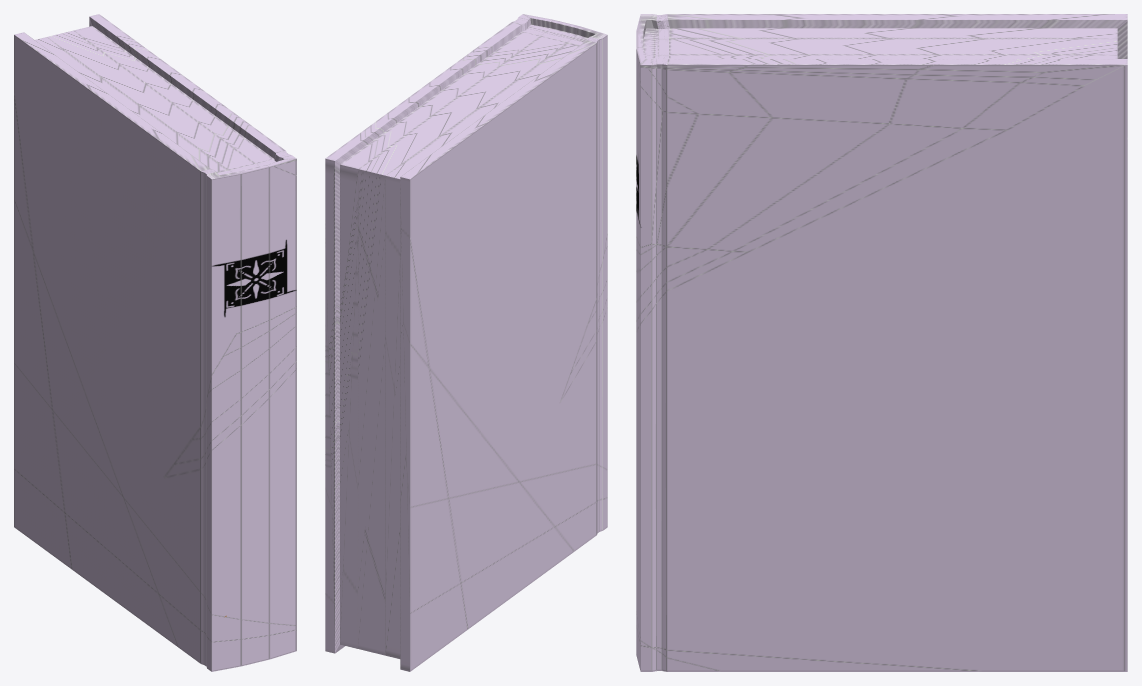
File: book9.fbx
3 views of the same model, side by side, from view 1: azimuth 30°, elevation 25°; view 2: azimuth 150°, elevation 25°; view 3: azimuth 270°, elevation 25° (orthographic). The views are drawn at different scales.
Visible parts, largest first — view 1: Architexture; view 2: Architexture; view 3: Architexture.
Part boxes in pixels (box(x1,y1,x2,y2)): Architexture: box(14, 14, 296, 671); Architexture: box(325, 14, 607, 671); Architexture: box(636, 14, 1127, 671).
Bounding box in the file's own units: 2.71 × 15 × 11.01.
Materials: 1 (1 with a texture image).
